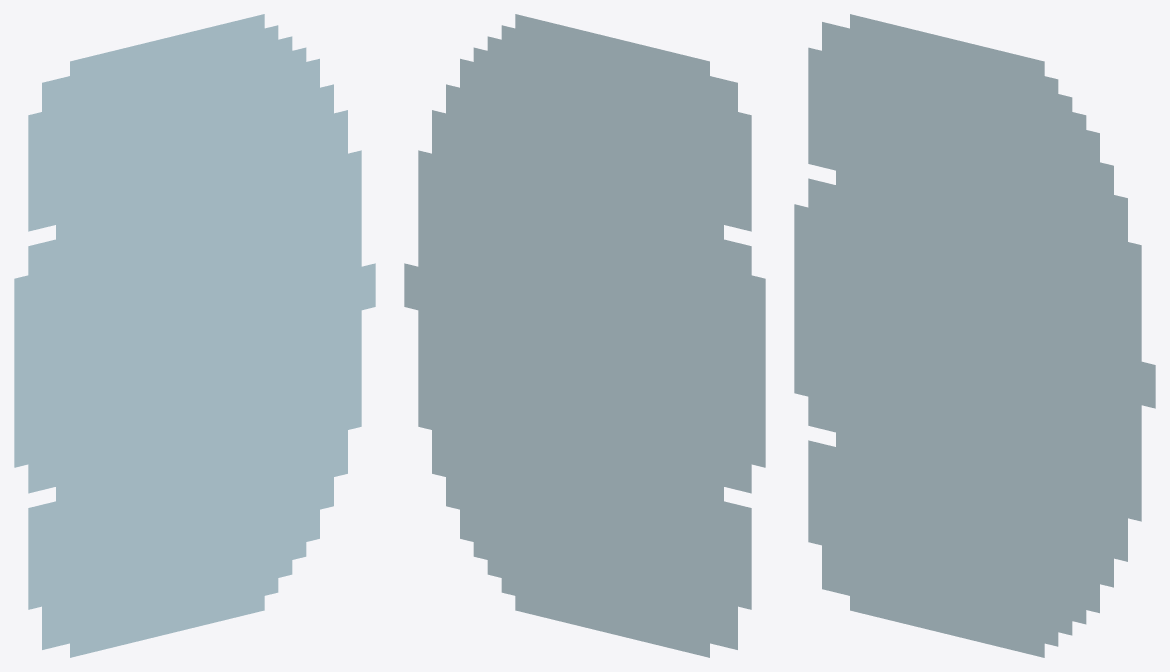
Rendered from wp_water_107.obj.
3 renders of one model, left to right at view 1: azimuth 30°, elevation 25°; view 2: azimuth 150°, elevation 25°; view 3: azimuth 330°, elevation 25°, orthographic.
Size of the model in its own units: 0.39 by 0.615 by 0.
1 material, 1 textured.
